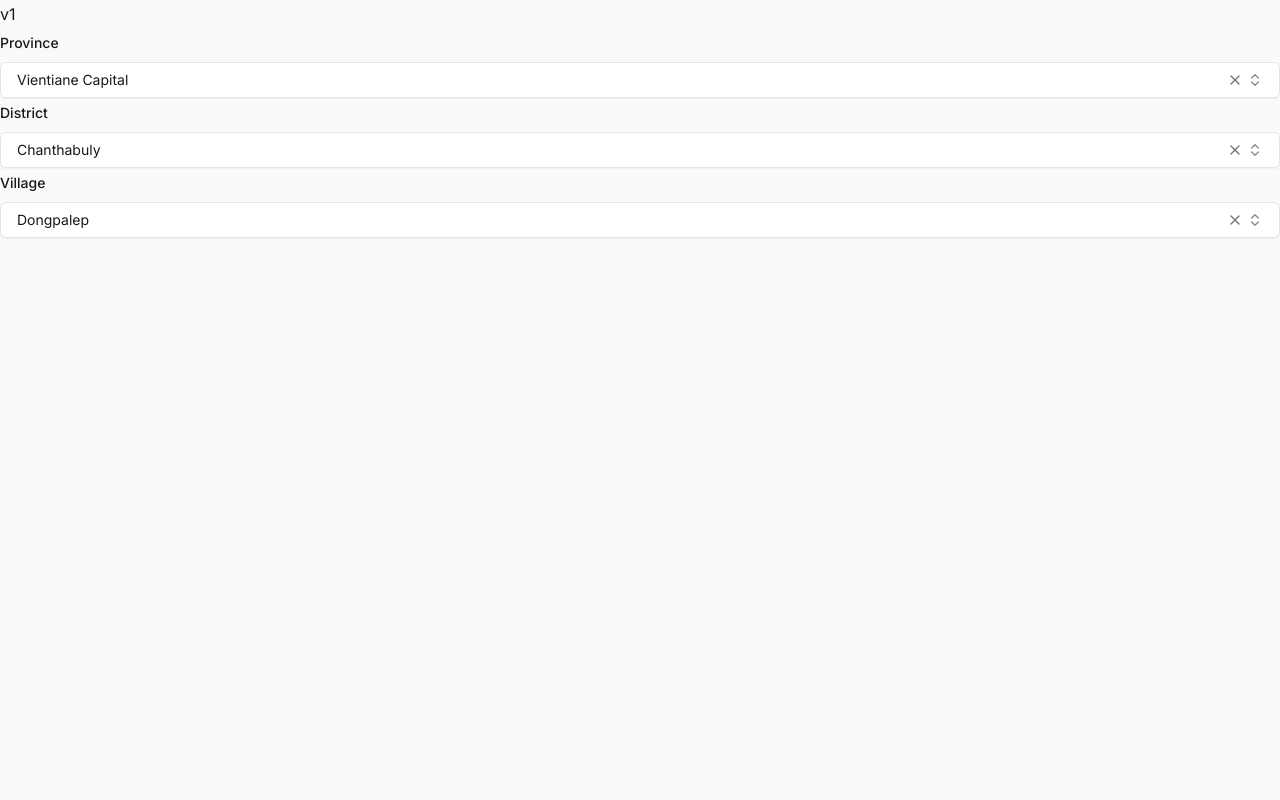
VillagePickerField › changes the district within the same province
Click the dropdown labelled "Chanthabuly": point(59, 149) [0,132,1279,168]
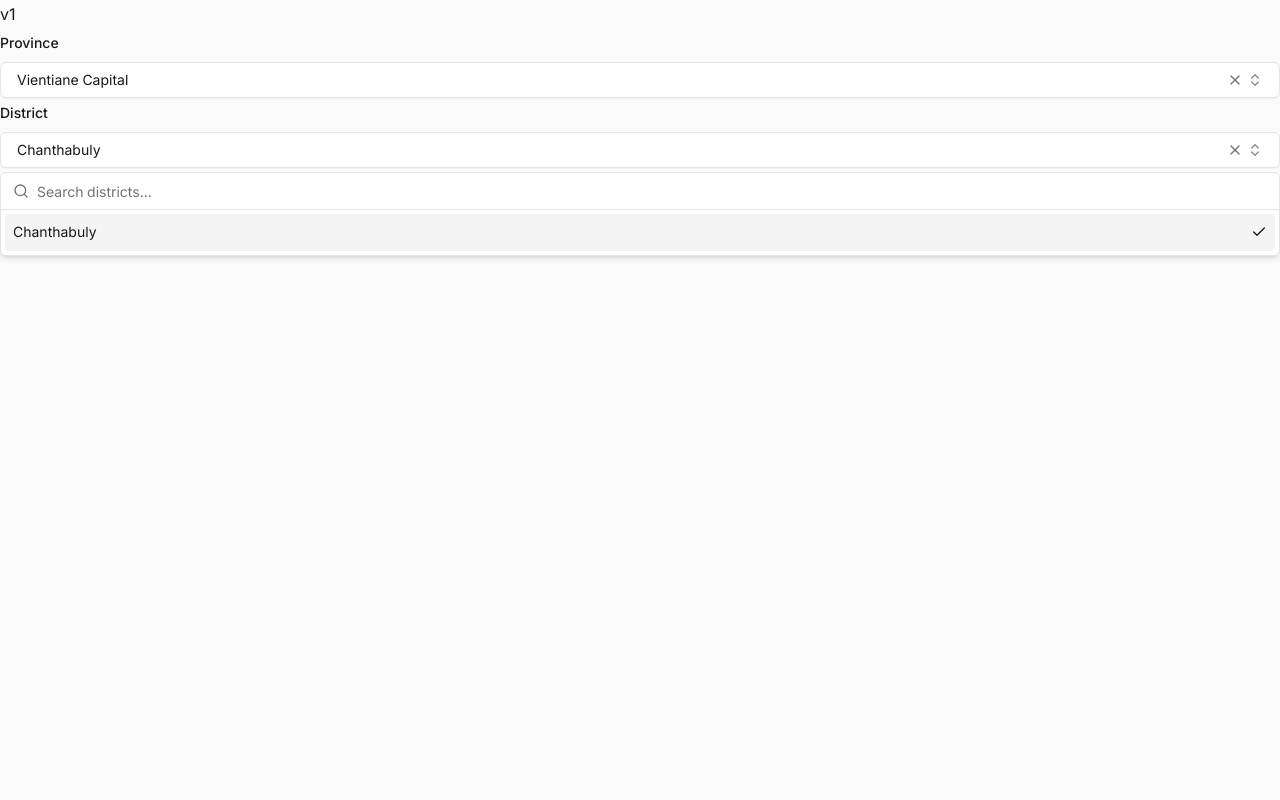
Click the button "Chanthabuly": point(55, 232) [5,214,1275,250]
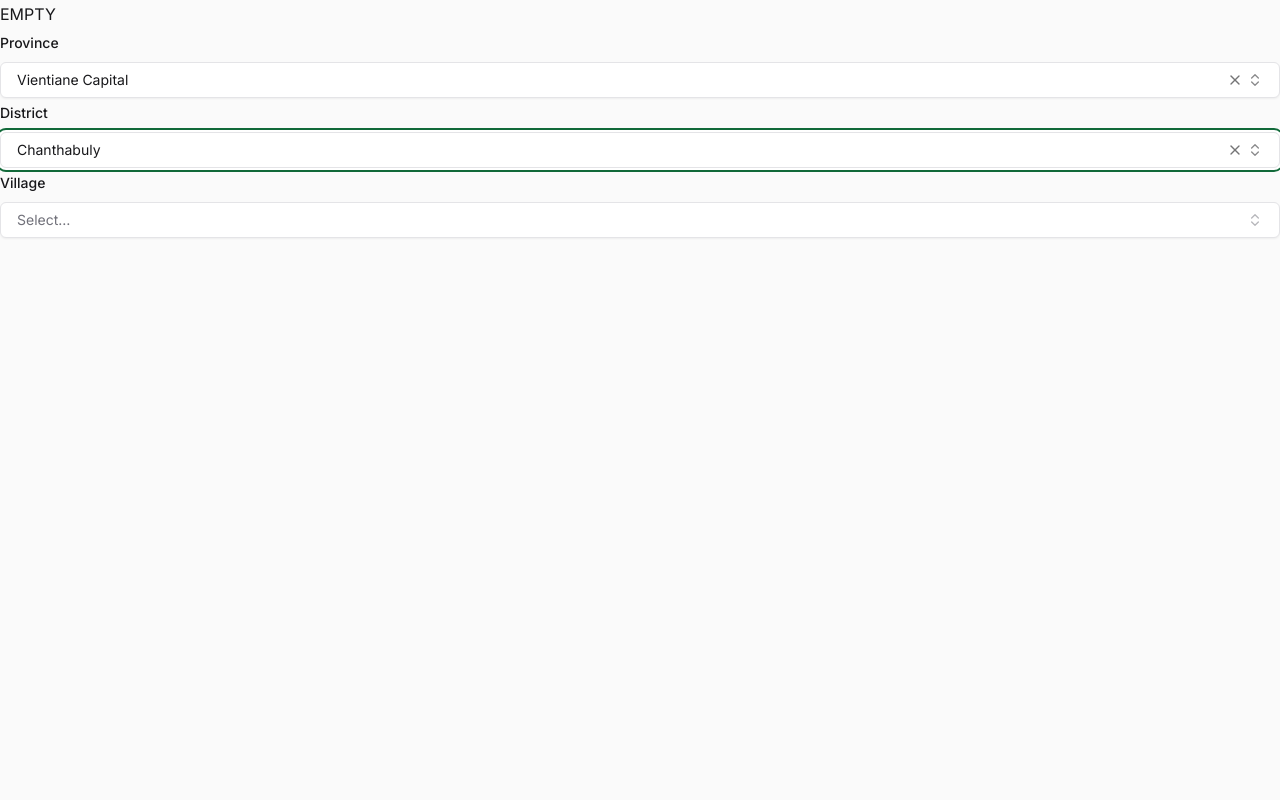
Expected: the dropdown labelled "Vientiane Capital" is shown, [0,62,1279,98]
Expected: the text with test id "value" reads "EMPTY", [0,1,56,27]
